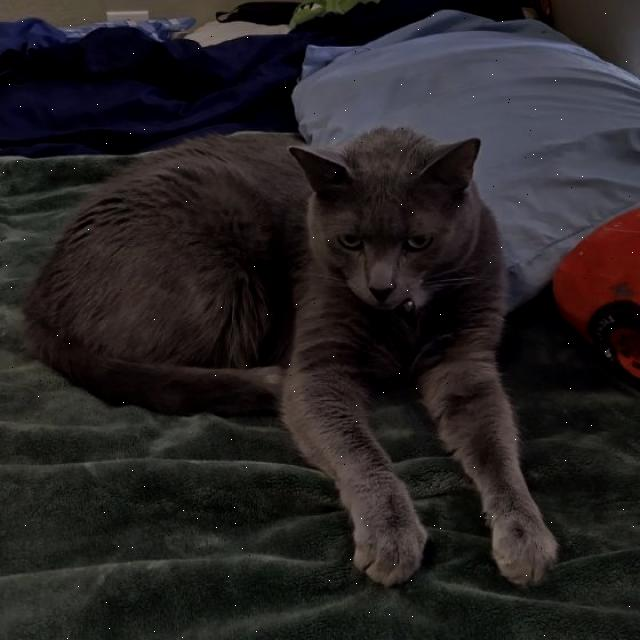russian_blue_cat: (278, 117, 501, 340)
